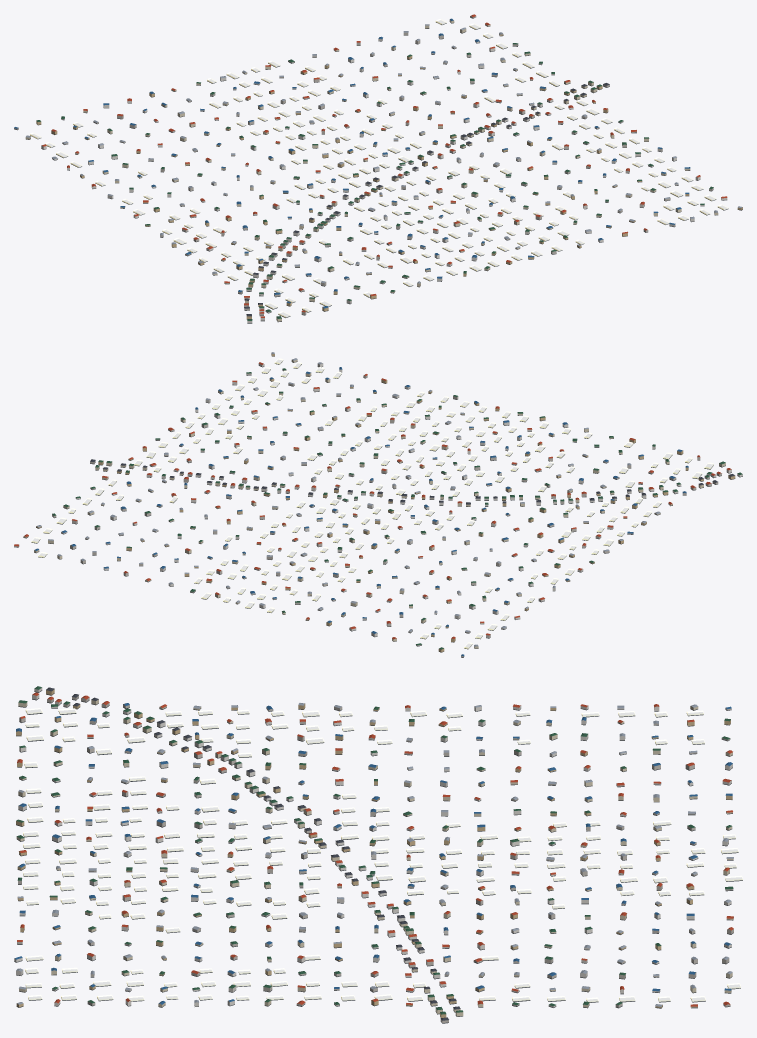
Rendered from buildings_T_W08_S03.glb.
3 views of the same model, one above another, from view 1: azimuth 30°, elevation 25°; view 2: azimuth 150°, elevation 25°; view 3: azimuth 270°, elevation 25° (orthographic). The views are drawn at different scales.
Visible parts, largest first — view 1: T_W08_S03_roofs_agri_greenhouse_arch, T_W08_S03_slope_seating_foundations, T_W08_S03_walls_wall_modern_warm_white, T_W08_S03_walls_wall_dalat_cream_stucco, T_W08_S03_walls_wall_french_ochre_villa, T_W08_S03_walls_wall_pastel_sand_gray, T_W08_S03_roofs_roof_pine_green_hip, T_W08_S03_roofs_roof_terracotta_gable, T_W08_S03_roofs_roof_highland_blue_gable, T_W08_S03_roofs_roof_zinc_silver_gable, T_W08_S03_roofs_roof_slate_French_villa_hip; view 2: T_W08_S03_slope_seating_foundations, T_W08_S03_roofs_agri_greenhouse_arch, T_W08_S03_walls_wall_modern_warm_white, T_W08_S03_walls_wall_dalat_cream_stucco, T_W08_S03_walls_wall_pastel_sand_gray, T_W08_S03_walls_wall_french_ochre_villa, T_W08_S03_roofs_roof_pine_green_hip, T_W08_S03_roofs_roof_terracotta_gable, T_W08_S03_roofs_roof_highland_blue_gable, T_W08_S03_roofs_roof_zinc_silver_gable, T_W08_S03_roofs_roof_slate_French_villa_hip; view 3: T_W08_S03_roofs_agri_greenhouse_arch, T_W08_S03_slope_seating_foundations, T_W08_S03_walls_wall_modern_warm_white, T_W08_S03_walls_wall_dalat_cream_stucco, T_W08_S03_walls_wall_french_ochre_villa, T_W08_S03_walls_wall_pastel_sand_gray, T_W08_S03_roofs_roof_pine_green_hip, T_W08_S03_roofs_roof_terracotta_gable, T_W08_S03_roofs_roof_highland_blue_gable, T_W08_S03_roofs_roof_zinc_silver_gable, T_W08_S03_roofs_roof_slate_French_villa_hip.
Part boxes in pixels (left/top/right/bottom): T_W08_S03_roofs_agri_greenhouse_arch: left=30, top=19, right=728, bottom=317; T_W08_S03_slope_seating_foundations: left=14, top=17, right=742, bottom=323; T_W08_S03_walls_wall_modern_warm_white: left=41, top=38, right=727, bottom=322; T_W08_S03_walls_wall_dalat_cream_stucco: left=25, top=20, right=718, bottom=321; T_W08_S03_walls_wall_french_ochre_villa: left=36, top=34, right=742, bottom=319; T_W08_S03_walls_wall_pastel_sand_gray: left=14, top=16, right=713, bottom=315; T_W08_S03_roofs_roof_pine_green_hip: left=36, top=43, right=713, bottom=320; T_W08_S03_roofs_roof_terracotta_gable: left=41, top=14, right=727, bottom=317; T_W08_S03_roofs_roof_highland_blue_gable: left=14, top=18, right=690, bottom=308; T_W08_S03_roofs_roof_zinc_silver_gable: left=26, top=24, right=742, bottom=283; T_W08_S03_roofs_roof_slate_French_villa_hip: left=244, top=83, right=609, bottom=316; T_W08_S03_slope_seating_foundations: left=14, top=356, right=742, bottom=657; T_W08_S03_roofs_agri_greenhouse_arch: left=31, top=358, right=713, bottom=648; T_W08_S03_walls_wall_modern_warm_white: left=61, top=363, right=742, bottom=638; T_W08_S03_walls_wall_dalat_cream_stucco: left=23, top=359, right=725, bottom=648; T_W08_S03_walls_wall_pastel_sand_gray: left=14, top=373, right=721, bottom=657; T_W08_S03_walls_wall_french_ochre_villa: left=36, top=353, right=735, bottom=652; T_W08_S03_roofs_roof_pine_green_hip: left=52, top=368, right=742, bottom=649; T_W08_S03_roofs_roof_terracotta_gable: left=14, top=362, right=731, bottom=639; T_W08_S03_roofs_roof_highland_blue_gable: left=34, top=367, right=688, bottom=656; T_W08_S03_roofs_roof_zinc_silver_gable: left=37, top=352, right=660, bottom=646; T_W08_S03_roofs_roof_slate_French_villa_hip: left=90, top=459, right=734, bottom=504; T_W08_S03_roofs_agri_greenhouse_arch: left=23, top=708, right=742, bottom=1002; T_W08_S03_slope_seating_foundations: left=14, top=690, right=742, bottom=1023; T_W08_S03_walls_wall_modern_warm_white: left=14, top=688, right=732, bottom=1007; T_W08_S03_walls_wall_dalat_cream_stucco: left=16, top=699, right=733, bottom=1016; T_W08_S03_walls_wall_french_ochre_villa: left=16, top=689, right=732, bottom=1017; T_W08_S03_walls_wall_pastel_sand_gray: left=17, top=695, right=733, bottom=1023; T_W08_S03_roofs_roof_pine_green_hip: left=16, top=686, right=733, bottom=1014; T_W08_S03_roofs_roof_terracotta_gable: left=17, top=692, right=733, bottom=1006; T_W08_S03_roofs_roof_highland_blue_gable: left=15, top=703, right=732, bottom=1004; T_W08_S03_roofs_roof_zinc_silver_gable: left=16, top=703, right=733, bottom=1006; T_W08_S03_roofs_roof_slate_French_villa_hip: left=46, top=687, right=460, bottom=1020.
Bounding box in the file's own units: 1908 × 28.02 × 1752.
